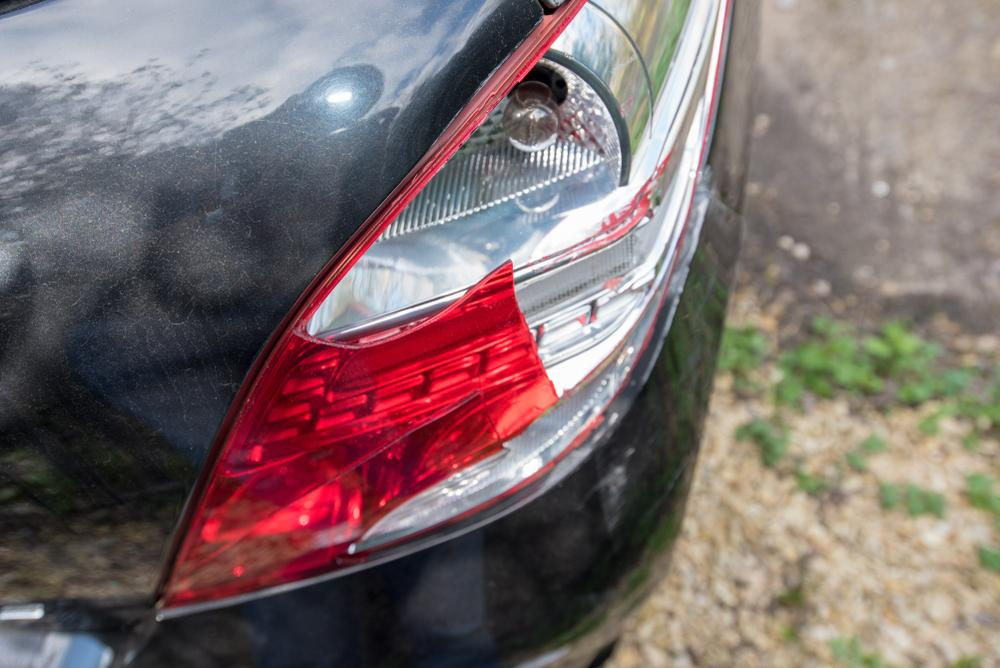lamp broken: (156, 0, 734, 618)
